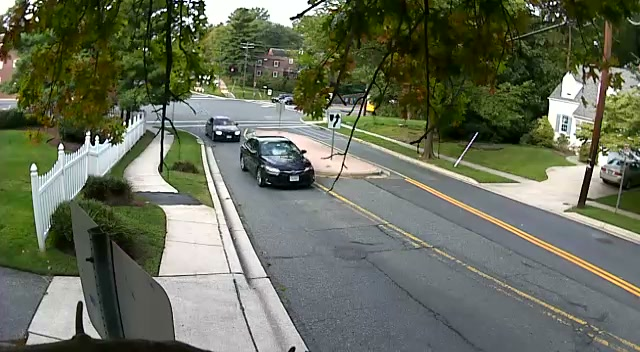car: (240, 133, 316, 189), (600, 151, 640, 189), (205, 116, 240, 142), (276, 94, 294, 104)
